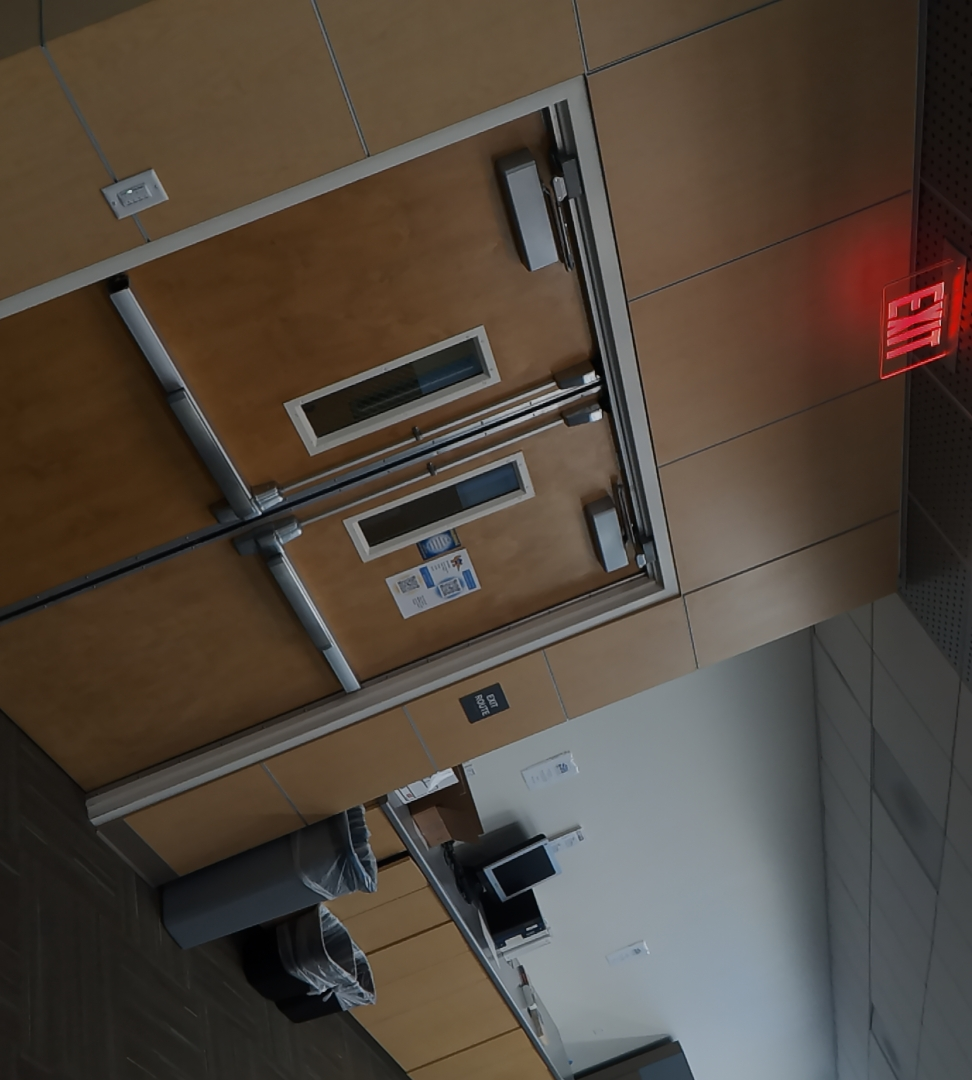emergency_exit: (876, 256, 966, 381)
